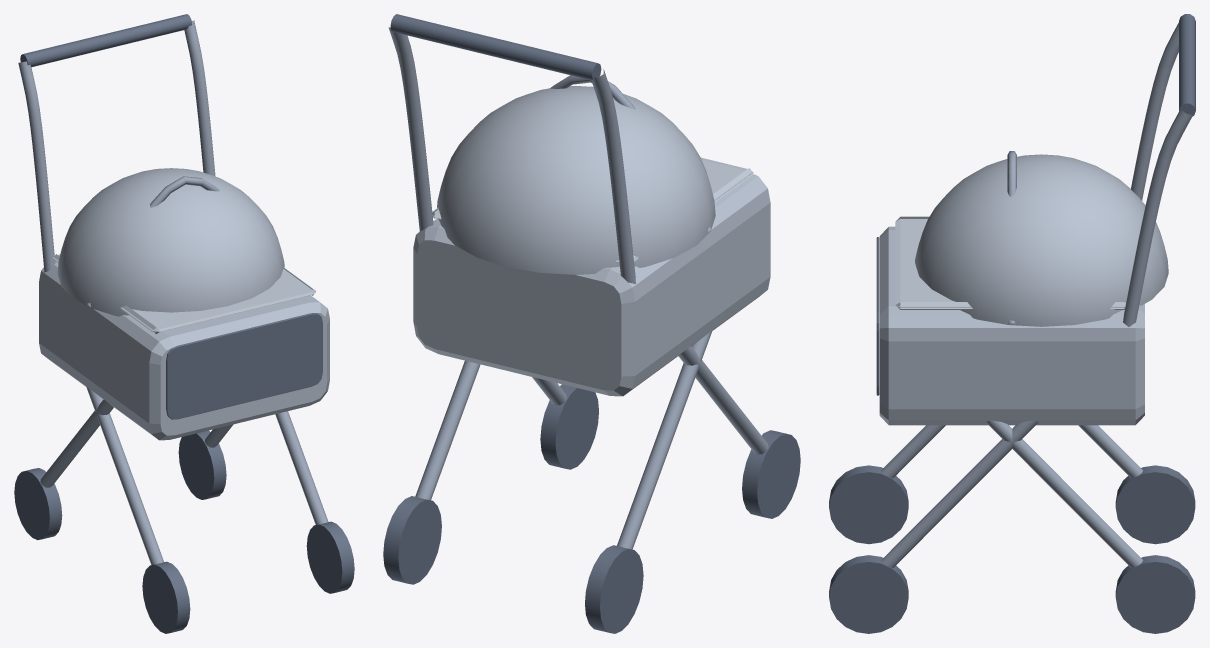
Rendered from pet-stroller-lite.glb.
3 renders of one model, left to right at view 1: azimuth 30°, elevation 25°; view 2: azimuth 150°, elevation 25°; view 3: azimuth 270°, elevation 25°, orthographic. The views are drawn at different scales.
Visible parts, largest first — view 1: soft, dark, body, light; view 2: soft, dark, body, light; view 3: soft, dark, body, light.
Part boxes in pixels (x1,y1,x2,y2): soft: [39, 168, 329, 440]; dark: [14, 14, 354, 633]; body: [18, 20, 328, 564]; light: [53, 254, 315, 333]; soft: [413, 86, 770, 396]; dark: [383, 14, 800, 633]; body: [388, 27, 768, 549]; light: [432, 157, 753, 262]; soft: [879, 154, 1168, 425]; dark: [829, 14, 1195, 633]; body: [881, 22, 1192, 567]; light: [895, 216, 1125, 309].
Bounding box in the file's own units: 0.48 × 1.1 × 0.691.
